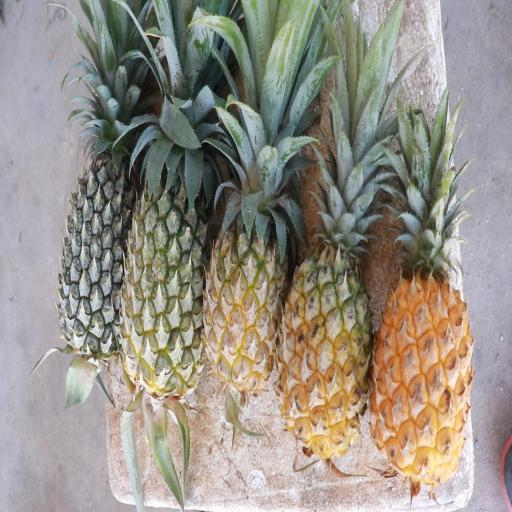------------------------------: (122, 111, 208, 396)
Pineapple - v8 v1: (374, 227, 474, 477), (283, 190, 372, 453), (206, 142, 290, 390)
